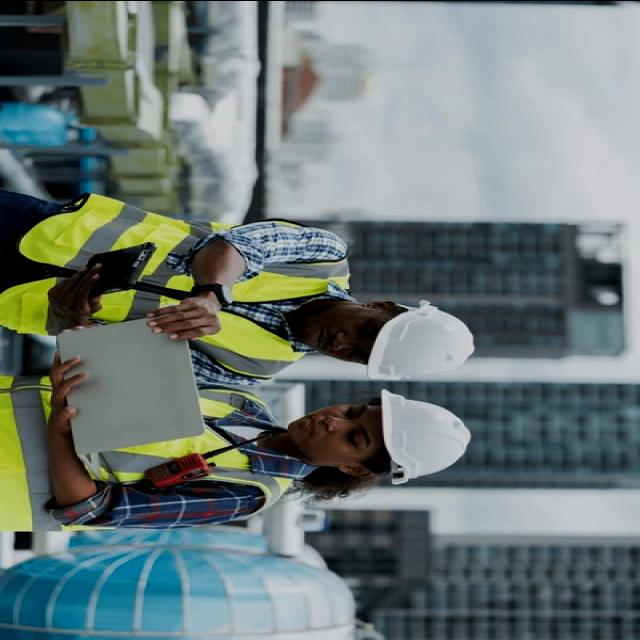Hard Hat: (360, 291, 485, 383), (372, 388, 478, 493)
Reflective Vest: (0, 188, 348, 385), (0, 372, 298, 538)
